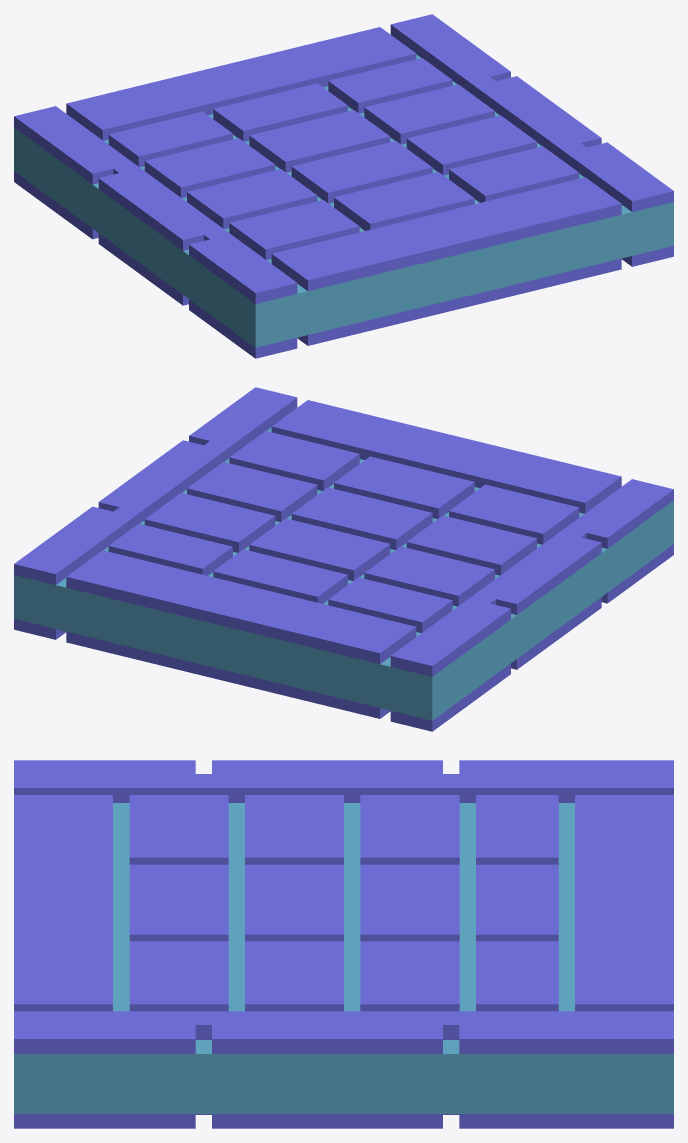
File: celing_norm.obj
3 views of the same model, one above another, from view 1: azimuth 30°, elevation 25°; view 2: azimuth 150°, elevation 25°; view 3: azimuth 270°, elevation 25° (orthographic). The views are drawn at different scales.
Bounding box in the file's own units: 4 × 0.6 × 4.
1 material, 1 textured.
